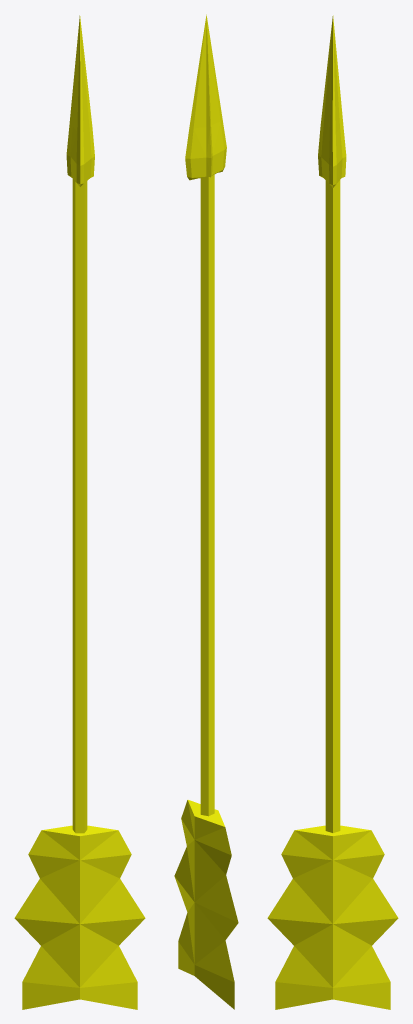
File: _arrow_b_6.glb
The picture shows the model from 3 angles, left to right: view 1: azimuth 90°, elevation 25°; view 2: azimuth 210°, elevation 25°; view 3: azimuth 270°, elevation 25°; orthographic projection. The views are drawn at different scales.
Parts seen in each view (by area): view 1: arrow_b_6; view 2: arrow_b_6; view 3: arrow_b_6.
Part boxes in pixels (x1=…): arrow_b_6: x1=14, y1=15, x2=145, y2=1009; arrow_b_6: x1=174, y1=14, x2=238, y2=1009; arrow_b_6: x1=267, y1=15, x2=398, y2=1009.
Bounding box in the file's own units: 0.0342 × 0.7611 × 0.0909.
Materials: 1 (1 with a texture image).
